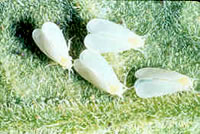whitefly: (73, 49, 129, 102), (31, 21, 77, 80), (85, 18, 148, 55), (134, 67, 200, 98)
